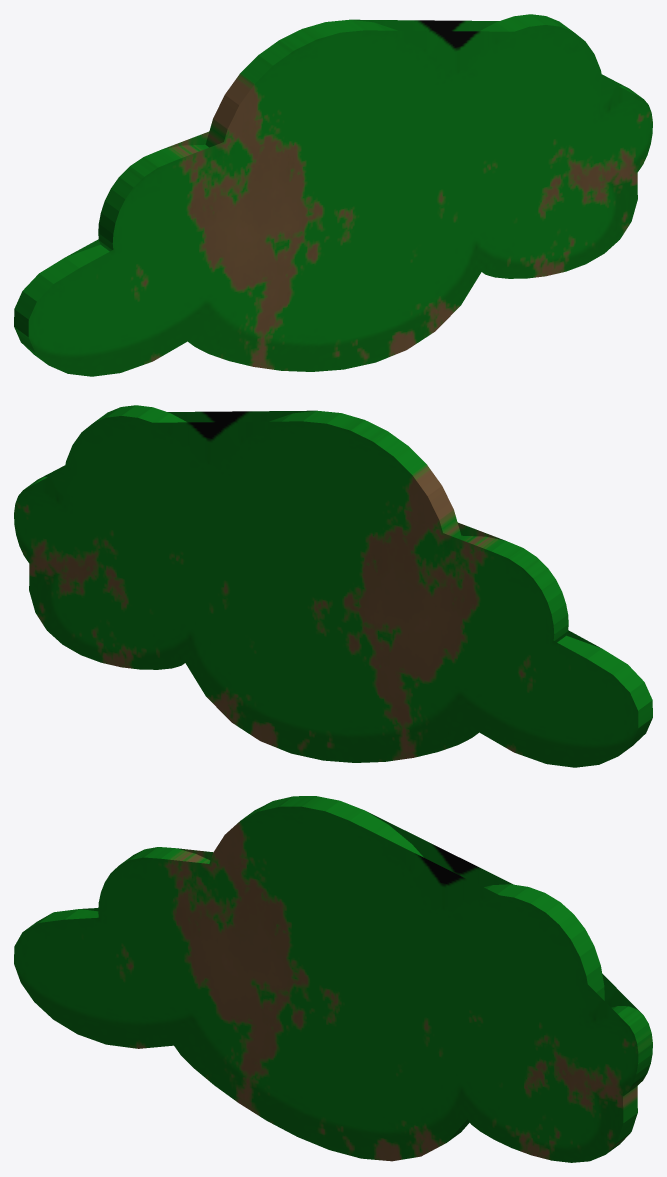
The model's file is arbusto 2.fbx.
3 renders of one model, top to bottom at view 1: azimuth 30°, elevation 25°; view 2: azimuth 150°, elevation 25°; view 3: azimuth 330°, elevation 25°, orthographic.
Visible parts, largest first — view 1: arbusto 2; view 2: arbusto 2; view 3: arbusto 2.
Part boxes in pixels (<box>): arbusto 2: <box>14,14,652,376</box>; arbusto 2: <box>14,405,652,767</box>; arbusto 2: <box>14,796,652,1162</box>.
Size of the model in its own units: 440 by 228 by 17.73.
